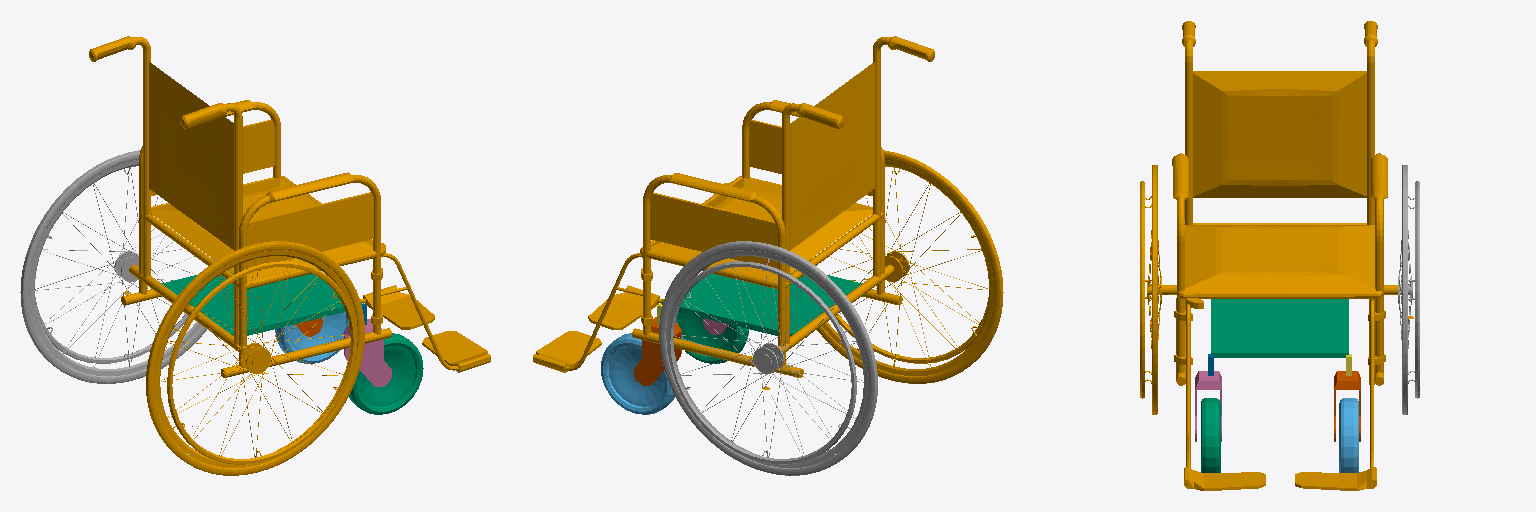
The robot description file, URDF, robot "wheelchair":
<?xml version="1.0" encoding="utf-8"?>
<!-- =================================================================================== -->
<!-- |    This document was autogenerated by xacro from ../src/wheelchair_description/urdf/wheelchair.xacro | -->
<!-- |    EDITING THIS FILE BY HAND IS NOT RECOMMENDED                                 | -->
<!-- =================================================================================== -->
<robot name="wheelchair" xmlns:xacro="http://www.ros.org/wiki/xacro">
  <gazebo>
    <plugin filename="libgazebo_ros_diff_drive.so" name="differential_drive_controller">
      <legacyMode>false</legacyMode>
      <alwaysOn>true</alwaysOn>
      <updateRate>20</updateRate>
      <leftJoint>axle_rear_left_wheel_joint</leftJoint>
      <rightJoint>axle_rear_right_wheel_joint</rightJoint>
      <wheelSeparation>0.403568</wheelSeparation>
      <wheelDiameter>0.403568</wheelDiameter>
      <torque>20</torque>
      <commandTopic>cmd_vel</commandTopic>
      <odometryTopic>odom</odometryTopic>
      <odometryFrame>odom</odometryFrame>
      <robotBaseFrame>footprint</robotBaseFrame>
    </plugin>
  </gazebo>
  <gazebo reference="footprint">
    <material>Gazebo/Green</material>
  </gazebo>
  <gazebo reference="rear_right_wheel">
    <material>Gazebo/Blue</material>
  </gazebo>
  <gazebo reference="rear_left_wheel">
    <material>Gazebo/Blue</material>
  </gazebo>
  <gazebo reference="front_left_wheel">
    <material>Gazebo/Blue</material>
  </gazebo>
  <gazebo reference="front_right_wheel">
    <material>Gazebo/Blue</material>
  </gazebo>
  <material name="black">
    <color rgba="0.0 0.0 0.0 1.0"/>
  </material>
  <material name="blue">
    <color rgba="0.0 0.0 0.8 1.0"/>
  </material>
  <material name="green">
    <color rgba="0.0 0.8 0.0 1.0"/>
  </material>
  <material name="grey">
    <color rgba="0.2 0.2 0.2 1.0"/>
  </material>
  <material name="orange">
    <color rgba="1.0 0.423529411765 0.0392156862745 1.0"/>
  </material>
  <material name="brown">
    <color rgba="0.870588235294 0.811764705882 0.764705882353 1.0"/>
  </material>
  <material name="red">
    <color rgba="0.8 0.0 0.0 1.0"/>
  </material>
  <material name="white">
    <color rgba="1.0 1.0 1.0 1.0"/>
  </material>
  <!--
    <gazebo reference="${lr}_wheel">
      <mu1 value="1.0"/>
      <mu2 value="1.0"/>
      <kp  value="10000000.0" />
      <kd  value="1.0" />
      <fdir1 value="1 0 0"/>
      <material>Gazebo/Black</material>
    </gazebo>


    <joint name="${lr}_wheel_hinge" type="continuous">
      <parent link="chassis"/>
      <child link="${lr}_wheel"/>
    <origin xyz="${-wheelPos+chassisLength/2} ${tY*wheelWidth/2+tY*chassisWidth/2} ${wheelRadius}" rpy="0 0 0" />
      <axis xyz="0 1 0" rpy="0 0 0" />
      <limit effort="10000" velocity="10000"/>
      <joint_properties damping="0.0" friction="0.0"/>
    </joint>


    <transmission name="${lr}_trans">
      <type>transmission_interface/SimpleTransmission</type>
      <joint name="${lr}_wheel_hinge">
        <hardwareInterface>EffortJointInterface</hardwareInterface>
      </joint>
      <actuator name="${lr}Motor">
        <hardwareInterface>EffortJointInterface</hardwareInterface>
        <mechanicalReduction>10</mechanicalReduction>
      </actuator>
    </transmission>
  -->
  <link name="footprint">
    <visual>
      <origin rpy=" 0 0 0" xyz="0 0 0"/>
      <geometry>
        <box size="0.001 0.001 0.001"/>
      </geometry>
    </visual>
    <visual>
      <origin rpy="0 0 -3.14" xyz="0 0 0"/>
      <geometry>
        <mesh filename="package://wheelchair_description/meshes/wheelchair_chasis.stl" scale="0.01 0.01 0.01"/>
      </geometry>
    </visual>
  </link>
  <link name="axle">
    <inertial>
      <origin rpy=" 0 0 0" xyz="0 0 0"/>
      <mass value="2.0"/>
      <inertia ixx="0.0271611884373" ixy="0" ixz="0" iyy="3.33333333333e-05" iyz="0" izz="3.33333333333e-05"/>
    </inertial>
    <collision name="collision">
      <origin rpy=" 0 0 0" xyz="0 0 0"/>
      <geometry>
        <box size="0.01 0.403568 0.01"/>
      </geometry>
    </collision>
    <visual>
      <origin rpy=" 0 0 0" xyz="0 0 0"/>
      <geometry>
        <box size="0.01 0.403568 0.01"/>
      </geometry>
    </visual>
  </link>
  <joint name="footprint_axle_joint" type="fixed">
    <origin rpy="0 0 0" xyz="0 0 0.201784"/>
    <parent link="footprint"/>
    <child link="axle"/>
  </joint>
  <link name="base">
    <collision name="base_chassis_collision">
      <geometry>
        <box size="0.250676 0.223568 0.01"/>
      </geometry>
    </collision>
    <visual name="base_visual">
      <origin rpy="0 0 0" xyz="0.125338 0 0"/>
      <geometry>
        <box size="0.250676 0.223568 0.01"/>
      </geometry>
    </visual>
    <inertial name="base_intertial">
      <origin rpy="0 0 0" xyz="0.125338 0 0"/>
      <mass value="73.0"/>
      <inertia ixx="0.304669457963" ixy="0" ixz="0" iyy="0.382875613271" iyz="0" izz="0.382875613271"/>
    </inertial>
  </link>
  <joint name="axle_base_joint" type="fixed">
    <origin rpy="0 0 0" xyz="0 0 0"/>
    <parent link="axle"/>
    <child link="base"/>
  </joint>
  <link name="front_left_leg">
    <collision name="front_left_leg_chassis_collision">
      <geometry>
        <box size="0.01 0.01 0.0354"/>
      </geometry>
    </collision>
    <visual name="front_left_leg_visual">
      <origin rpy="0 0 0" xyz="0 0 -0.0177"/>
      <geometry>
        <box size="0.01 0.01 0.0354"/>
      </geometry>
    </visual>
    <inertial name="front_left_leg_intertial">
      <origin rpy="0 0 0" xyz="0 0 -0.0177"/>
      <mass value="0.25"/>
      <inertia ixx="2.81908333333e-05" ixy="0" ixz="0" iyy="2.81908333333e-05" iyz="0" izz="2.81908333333e-05"/>
    </inertial>
  </link>
  <joint name="base_front_left_leg_joint" type="fixed">
    <origin rpy="0 0 0" xyz="0.250676 0.111784 0"/>
    <parent link="base"/>
    <child link="front_left_leg"/>
  </joint>
  <link name="front_right_leg">
    <collision name="front_right_leg_chassis_collision">
      <geometry>
        <box size="0.01 0.01 0.0354"/>
      </geometry>
    </collision>
    <visual name="front_right_leg_visual">
      <origin rpy="0 0 0" xyz="0 0 -0.0177"/>
      <geometry>
        <box size="0.01 0.01 0.0354"/>
      </geometry>
    </visual>
    <inertial name="front_right_leg_intertial">
      <origin rpy="0 0 0" xyz="0 0 -0.0177"/>
      <mass value="0.25"/>
      <inertia ixx="2.81908333333e-05" ixy="0" ixz="0" iyy="2.81908333333e-05" iyz="0" izz="2.81908333333e-05"/>
    </inertial>
  </link>
  <joint name="base_front_right_leg_joint" type="fixed">
    <origin rpy="0 0 0" xyz="0.250676 -0.111784 0"/>
    <parent link="base"/>
    <child link="front_right_leg"/>
  </joint>
  <link name="front_left_leg_rev">
    <collision name="front_left_leg_rev_collision">
      <origin rpy="0 0 0" xyz=" 0 0 0"/>
      <geometry>
        <cylinder length="0.0356884" radius="0.01"/>
      </geometry>
    </collision>
    <!--
      <visual name="${lr}_visual">
        <transparency>0.1</transparency>
        <origin xyz="${xyz}" rpy="${rpy}" />
        <geometry>
          <cylinder length="${wheelWidth - tY}" radius="${wheelRadius}"/>
        </geometry>

        <material name="green"/>
      </visual>
    -->
    <visual name="front_left_leg_rev_visual_mesh">
      <origin rpy="0 0 0" xyz=" 0 0 0"/>
      <geometry>
        <mesh filename="package://wheelchair_description/meshes/wheelchair_wheel_rev.stl" scale="0.01 0.01 0.01"/>
      </geometry>
    </visual>
    <inertial name="front_left_leg_rev_visual_intertial">
      <origin rpy="0 1.57079632679 1.57079632679" xyz="0 0 0"/>
      <mass value="0.25"/>
      <inertia ixx="3.27846228033e-05" ixy="0" ixz="0" iyy="3.27846228033e-05" iyz="0" izz="1.25e-05"/>
    </inertial>
  </link>
  <joint name="front_left_leg_front_left_leg_rev_joint" type="continuous">
    <origin rpy="0 0 0" xyz="0 0 -0.0354"/>
    <child link="front_left_leg_rev"/>
    <parent link="front_left_leg"/>
    <axis rpy="0 0 0" xyz="0 0 1"/>
    <limit effort="100" velocity="100"/>
    <joint_properties damping="0.01" friction="0.5"/>
  </joint>
  <link name="front_right_leg_rev">
    <collision name="front_right_leg_rev_collision">
      <origin rpy="0 0 0" xyz=" 0 0 0"/>
      <geometry>
        <cylinder length="0.0356884" radius="0.01"/>
      </geometry>
    </collision>
    <!--
      <visual name="${lr}_visual">
        <transparency>0.1</transparency>
        <origin xyz="${xyz}" rpy="${rpy}" />
        <geometry>
          <cylinder length="${wheelWidth - tY}" radius="${wheelRadius}"/>
        </geometry>

        <material name="green"/>
      </visual>
    -->
    <visual name="front_right_leg_rev_visual_mesh">
      <origin rpy="0 0 0" xyz=" 0 0 0"/>
      <geometry>
        <mesh filename="package://wheelchair_description/meshes/wheelchair_wheel_rev.stl" scale="0.01 0.01 0.01"/>
      </geometry>
    </visual>
    <inertial name="front_right_leg_rev_visual_intertial">
      <origin rpy="0 1.57079632679 1.57079632679" xyz="0 0 0"/>
      <mass value="0.25"/>
      <inertia ixx="3.27846228033e-05" ixy="0" ixz="0" iyy="3.27846228033e-05" iyz="0" izz="1.25e-05"/>
    </inertial>
  </link>
  <joint name="front_right_leg_front_right_leg_rev_joint" type="continuous">
    <origin rpy="0 0 0" xyz="0 0 -0.0354"/>
    <child link="front_right_leg_rev"/>
    <parent link="front_right_leg"/>
    <axis rpy="0 0 0" xyz="0 0 1"/>
    <limit effort="100" velocity="100"/>
    <joint_properties damping="0.01" friction="0.5"/>
  </joint>
  <link name="rear_left_wheel">
    <collision name="rear_left_wheel_collision">
      <origin rpy="-1.57079632679 0 0" xyz=" 0 0 0"/>
      <geometry>
        <cylinder length="0.0356884" radius="0.201784"/>
      </geometry>
    </collision>
    <!--
      <visual name="${lr}_visual">
        <transparency>0.1</transparency>
        <origin xyz="${xyz}" rpy="${rpy}" />
        <geometry>
          <cylinder length="${wheelWidth - tY}" radius="${wheelRadius}"/>
        </geometry>

        <material name="green"/>
      </visual>
    -->
    <visual name="rear_left_wheel_visual_mesh">
      <origin rpy="-1.57079632679 0 0" xyz=" 0 0 0"/>
      <geometry>
        <mesh filename="package://wheelchair_description/meshes/wheelchair_wheel.stl" scale="0.01 0.01 0.01"/>
      </geometry>
    </visual>
    <inertial name="rear_left_wheel_visual_intertial">
      <origin rpy="0 1.57079632679 1.57079632679" xyz="0 0 0"/>
      <mass value="3.0"/>
      <inertia ixx="0.0308560024656" ixy="0" ixz="0" iyy="0.0308560024656" iyz="0" izz="0.061075173984"/>
    </inertial>
  </link>
  <joint name="axle_rear_left_wheel_joint" type="continuous">
    <origin rpy="0 0 0" xyz="0 0.201784 0"/>
    <child link="rear_left_wheel"/>
    <parent link="axle"/>
    <axis rpy="0 0 0" xyz="0 1 0"/>
    <limit effort="100" velocity="100"/>
    <joint_properties damping="0.01" friction="0.5"/>
  </joint>
  <link name="rear_right_wheel">
    <collision name="rear_right_wheel_collision">
      <origin rpy="1.57079632679 0 0" xyz=" 0 0 0"/>
      <geometry>
        <cylinder length="0.0356884" radius="0.201784"/>
      </geometry>
    </collision>
    <!--
      <visual name="${lr}_visual">
        <transparency>0.1</transparency>
        <origin xyz="${xyz}" rpy="${rpy}" />
        <geometry>
          <cylinder length="${wheelWidth - tY}" radius="${wheelRadius}"/>
        </geometry>

        <material name="green"/>
      </visual>
    -->
    <visual name="rear_right_wheel_visual_mesh">
      <origin rpy="1.57079632679 0 0" xyz=" 0 0 0"/>
      <geometry>
        <mesh filename="package://wheelchair_description/meshes/wheelchair_wheel.stl" scale="0.01 0.01 0.01"/>
      </geometry>
    </visual>
    <inertial name="rear_right_wheel_visual_intertial">
      <origin rpy="0 1.57079632679 1.57079632679" xyz="0 0 0"/>
      <mass value="3.0"/>
      <inertia ixx="0.0308560024656" ixy="0" ixz="0" iyy="0.0308560024656" iyz="0" izz="0.061075173984"/>
    </inertial>
  </link>
  <joint name="axle_rear_right_wheel_joint" type="continuous">
    <origin rpy="0 0 0" xyz="0 -0.201784 0"/>
    <child link="rear_right_wheel"/>
    <parent link="axle"/>
    <axis rpy="0 0 0" xyz="0 1 0"/>
    <limit effort="100" velocity="100"/>
    <joint_properties damping="0.01" friction="0.5"/>
  </joint>
  <link name="front_left_wheel">
    <collision name="front_left_wheel_collision">
      <origin rpy="1.57079632679 0 0" xyz=" 0 0 0"/>
      <geometry>
        <cylinder length="0.032" radius="0.068"/>
      </geometry>
    </collision>
    <!--
      <visual name="${lr}_visual">
        <transparency>0.1</transparency>
        <origin xyz="${xyz}" rpy="${rpy}" />
        <geometry>
          <cylinder length="${wheelWidth - tY}" radius="${wheelRadius}"/>
        </geometry>

        <material name="green"/>
      </visual>
    -->
    <visual name="front_left_wheel_visual_mesh">
      <origin rpy="1.57079632679 0 0" xyz=" 0 0 0"/>
      <geometry>
        <mesh filename="package://wheelchair_description/meshes/wheelchair_wheel_small.stl" scale="0.01 0.01 0.01"/>
      </geometry>
    </visual>
    <inertial name="front_left_wheel_visual_intertial">
      <origin rpy="0 1.57079632679 1.57079632679" xyz="0 0 0"/>
      <mass value="1.5"/>
      <inertia ixx="0.001862" ixy="0" ixz="0" iyy="0.001862" iyz="0" izz="0.003468"/>
    </inertial>
  </link>
  <joint name="front_left_leg_rev_front_left_wheel_joint" type="continuous">
    <origin rpy="0 0 0" xyz="0.04 0 -0.096"/>
    <child link="front_left_wheel"/>
    <parent link="front_left_leg_rev"/>
    <axis rpy="0 0 0" xyz="0 1 0"/>
    <limit effort="100" velocity="100"/>
    <joint_properties damping="0.01" friction="0.5"/>
  </joint>
  <link name="front_right_wheel">
    <collision name="front_right_wheel_collision">
      <origin rpy="1.57079632679 0 0" xyz=" 0 0 0"/>
      <geometry>
        <cylinder length="0.032" radius="0.068"/>
      </geometry>
    </collision>
    <!--
      <visual name="${lr}_visual">
        <transparency>0.1</transparency>
        <origin xyz="${xyz}" rpy="${rpy}" />
        <geometry>
          <cylinder length="${wheelWidth - tY}" radius="${wheelRadius}"/>
        </geometry>

        <material name="green"/>
      </visual>
    -->
    <visual name="front_right_wheel_visual_mesh">
      <origin rpy="1.57079632679 0 0" xyz=" 0 0 0"/>
      <geometry>
        <mesh filename="package://wheelchair_description/meshes/wheelchair_wheel_small.stl" scale="0.01 0.01 0.01"/>
      </geometry>
    </visual>
    <inertial name="front_right_wheel_visual_intertial">
      <origin rpy="0 1.57079632679 1.57079632679" xyz="0 0 0"/>
      <mass value="1.5"/>
      <inertia ixx="0.001862" ixy="0" ixz="0" iyy="0.001862" iyz="0" izz="0.003468"/>
    </inertial>
  </link>
  <joint name="front_right_leg_rev_front_right_wheel_joint" type="continuous">
    <origin rpy="0 0 0" xyz="0.04 0 -0.096"/>
    <child link="front_right_wheel"/>
    <parent link="front_right_leg_rev"/>
    <axis rpy="0 0 0" xyz="0 1 0"/>
    <limit effort="100" velocity="100"/>
    <joint_properties damping="0.01" friction="0.5"/>
  </joint>
</robot>

--- Render facts (derived) ---
The picture shows the robot from 3 angles, left to right: view 1: azimuth 30°, elevation 25°; view 2: azimuth 150°, elevation 25°; view 3: azimuth 270°, elevation 25°; orthographic projection.
Robot: wheelchair — 11 links, 10 joints (6 continuous, 4 fixed); root link footprint; default pose: all joints at 0.
Links seen in each view (by area): view 1: footprint, rear_right_wheel, rear_left_wheel, base, front_right_wheel, front_left_wheel, front_right_leg_rev; view 2: footprint, rear_left_wheel, rear_right_wheel, base, front_left_wheel, front_right_wheel, front_left_leg_rev; view 3: footprint, base, rear_right_wheel, rear_left_wheel, front_left_wheel, front_right_wheel, front_left_leg_rev, front_right_leg_rev.
Link boxes in pixels (x1=…): footprint: x1=89, y1=36, x2=490, y2=426; rear_right_wheel: x1=146, y1=241, x2=364, y2=475; rear_left_wheel: x1=20, y1=150, x2=214, y2=383; base: x1=161, y1=270, x2=361, y2=335; front_right_wheel: x1=349, y1=333, x2=423, y2=414; front_left_wheel: x1=275, y1=312, x2=348, y2=363; front_right_leg_rev: x1=344, y1=319, x2=391, y2=386; footprint: x1=533, y1=36, x2=934, y2=426; rear_left_wheel: x1=659, y1=241, x2=877, y2=475; rear_right_wheel: x1=809, y1=150, x2=1003, y2=383; base: x1=662, y1=271, x2=861, y2=335; front_left_wheel: x1=601, y1=333, x2=674, y2=414; front_right_wheel: x1=675, y1=312, x2=748, y2=363; front_left_leg_rev: x1=634, y1=317, x2=681, y2=385; footprint: x1=1162, y1=21, x2=1413, y2=490; base: x1=1211, y1=299, x2=1348, y2=357; rear_right_wheel: x1=1140, y1=165, x2=1161, y2=414; rear_left_wheel: x1=1398, y1=165, x2=1419, y2=414; front_left_wheel: x1=1339, y1=398, x2=1358, y2=472; front_right_wheel: x1=1201, y1=398, x2=1220, y2=472; front_left_leg_rev: x1=1334, y1=371, x2=1360, y2=441; front_right_leg_rev: x1=1195, y1=371, x2=1221, y2=441.
Size in the robot's own frame: 0.6804 by 0.4522 by 0.6406 metres.
7 mesh visuals loaded from 4 distinct referenced files (4 binary STL).
